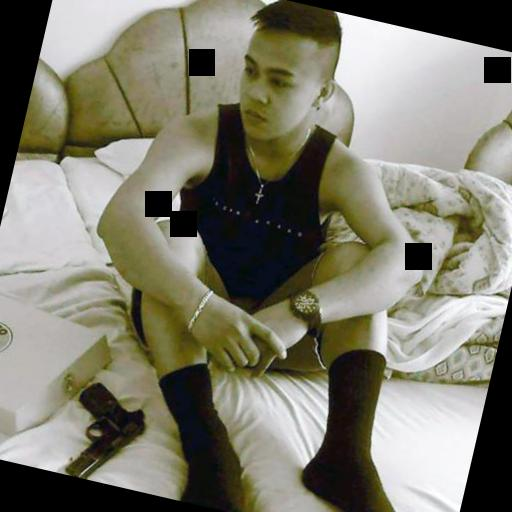Handgun: (46, 362, 154, 488)
